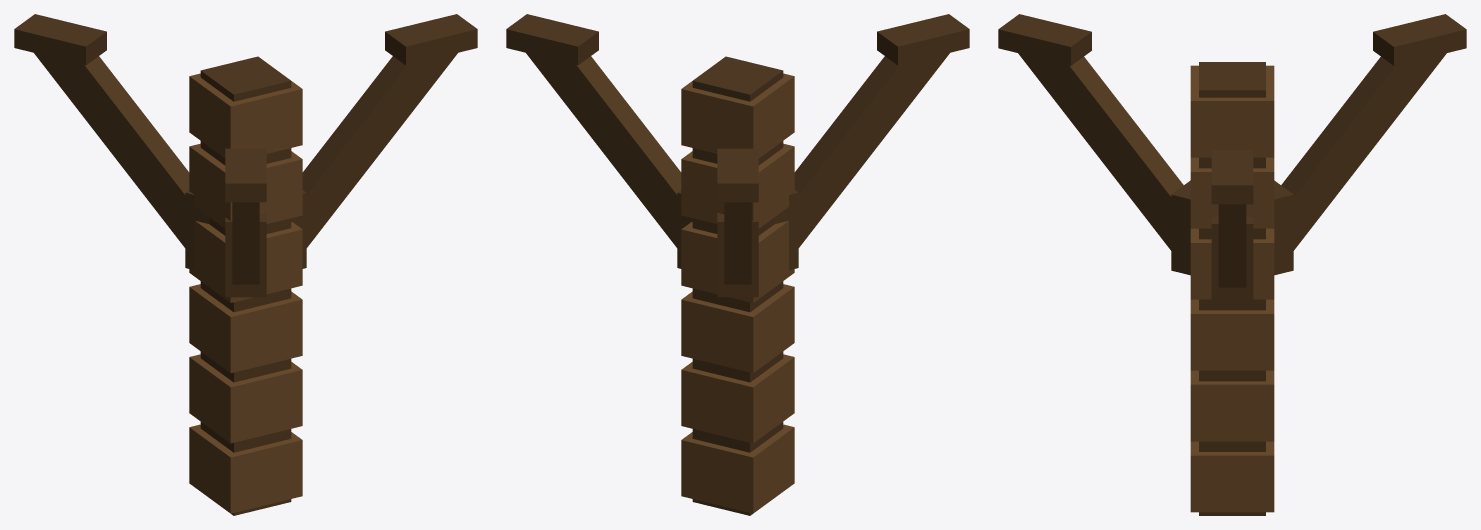
File: Column Modular Pieces.glb
3 renders of one model, left to right at view 1: azimuth 30°, elevation 25°; view 2: azimuth 150°, elevation 25°; view 3: azimuth 270°, elevation 25°, orthographic.
Visible parts, largest first — view 1: Simple (×7), Support (×3), Top (×3), Base (×2); view 2: Simple (×7), Support (×3), Top (×3), Base (×2); view 3: Simple (×7), Support (×3), Top (×3), Base (×3).
Part boxes in pixels (x1,y1,x2,y2): Simple (×7): [189, 56, 302, 515]; Support (×3): [34, 53, 457, 284]; Top (×3): [14, 14, 477, 202]; Base (×2): [185, 190, 266, 297]; Simple (×7): [681, 56, 794, 515]; Support (×3): [526, 53, 949, 284]; Top (×3): [506, 14, 969, 202]; Base (×2): [717, 190, 798, 297]; Simple (×7): [1190, 62, 1274, 515]; Support (×3): [1018, 53, 1446, 287]; Top (×3): [998, 14, 1466, 204]; Base (×3): [1171, 180, 1293, 299].
Bounding box in the file's own units: 2.42 × 2.8 × 2.79.
